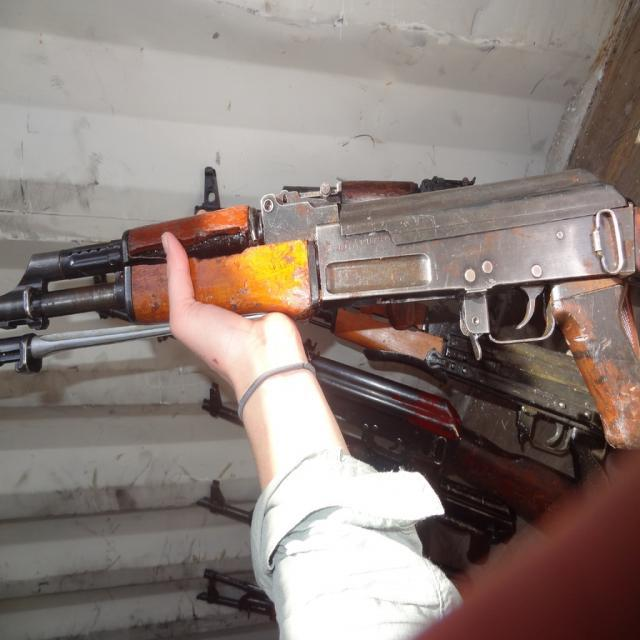weapon: (0, 164, 640, 620)
